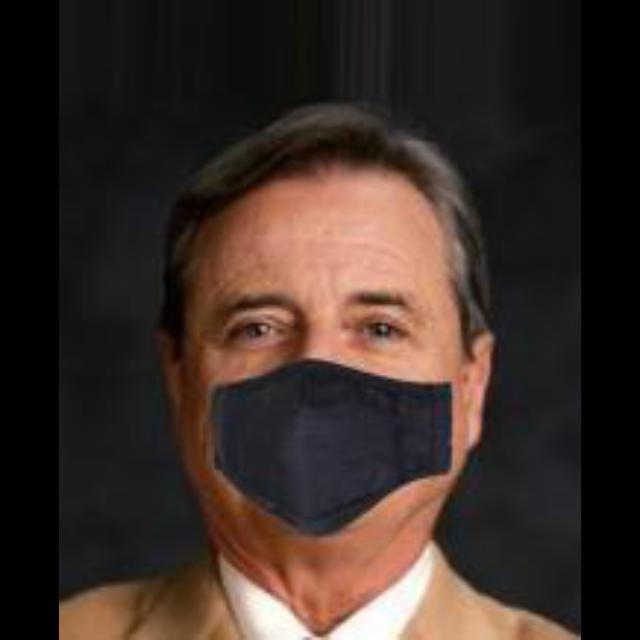suspicion: (184, 135, 492, 543)
